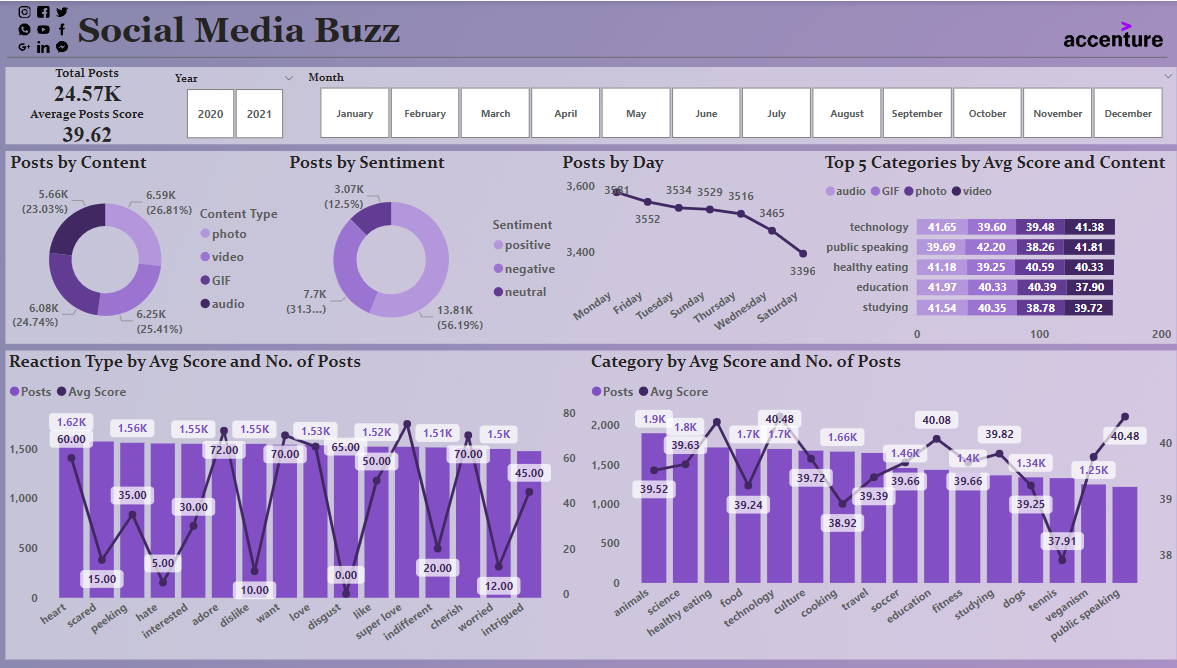

Layout of this report page (visuals, bound fields, positions):
{"tool":"powerbi","page":{"name":"Social","canvas":[1280,720],"ordinal":0},"visuals":[{"type":"textbox","box":[81.1,4.3,1171.4,56.5],"z":0},{"type":"basicShape","box":[0,40.5,1271.3,40.5],"z":1000},{"type":"image","box":[1136.4,0,135.1,71.1],"z":5001},{"type":"image","box":[15.6,0,65.4,61.2],"z":5002},{"type":"shape","box":[8.4,71.1,1263.3,83.7],"z":5003},{"type":"card","title":"Average Posts Score","fields":{"Values":["Avg(social.Score)"]},"box":[15.3,112.9,163.1,41.8],"z":5004},{"type":"slicer","fields":{"Values":["social.Date.Variation.Date Hierarchy.Year"]},"box":[178.5,71.1,153.4,83.7],"z":5005},{"type":"slicer","fields":{"Values":["social.Date.Variation.Date Hierarchy.Month"]},"box":[322.1,69.7,957.9,85.1],"z":5006},{"type":"shape","box":[8.4,161.7,1263.3,207.8],"z":5007},{"type":"donutChart","title":"Posts by Content","fields":{"Category":["social.Content Type"],"Y":["CountNonNull(social.Content ID)"]},"box":[8.4,161.7,316.5,210.5],"z":5008},{"type":"donutChart","title":"Posts by Sentiment","fields":{"Y":["CountNonNull(social.Content ID)"],"Category":["social.Sentiment"]},"box":[309.5,161.7,316.5,210.5],"z":5009},{"type":"shape","box":[8.4,376.5,1263.3,333.2],"z":5011},{"type":"lineClusteredColumnComboChart","title":"Reaction Type by Avg Score and No. of Posts","fields":{"Category":["social.Reaction Type"],"Y":["CountNonNull(social.Content ID)"],"Y2":["Avg(social.Score)"]},"box":[6.9,376.8,621.6,333.4],"z":5012},{"type":"lineChart","title":"Posts by Day","fields":{"Category":["social.Day Name"],"Y":["CountNonNull(social.Content ID)"]},"box":[603.7,161.7,283.1,207.8],"z":5013},{"type":"lineClusteredColumnComboChart","title":"Category by Avg Score and No. of Posts","fields":{"Y2":["Avg(social.Score)"],"Category":["social.Category"],"Y":["CountNonNull(social.Content ID)"]},"box":[633.8,376.8,637.2,333.4],"z":5014},{"type":"barChart","title":"Top 5 Categories by Avg Score and Content","fields":{"Category":["social.Category"],"Y":["Avg(social.Score)"],"Series":["social.Content Type"]},"box":[887.3,161.5,383.7,215.3],"z":5015},{"type":"card","title":"Total Posts","fields":{"Values":["CountNonNull(social.Content ID)"]},"box":[15.3,69.7,163.1,43.2],"z":5016}]}

Visuals, with their boxes in screenshot pixels (x1, y1, x2, y2), scaled from the page's 1280x720 canvas onto the 1177x668 screenshot:
textbox: {"x1": 75, "y1": 4, "x2": 1152, "y2": 56}
basicShape: {"x1": 0, "y1": 38, "x2": 1169, "y2": 75}
image: {"x1": 1045, "y1": 0, "x2": 1169, "y2": 66}
image: {"x1": 14, "y1": 0, "x2": 74, "y2": 57}
shape: {"x1": 8, "y1": 66, "x2": 1169, "y2": 144}
"Average Posts Score" card: {"x1": 14, "y1": 105, "x2": 164, "y2": 144}
slicer - social.Date.Variation.Date Hierarchy.Year: {"x1": 164, "y1": 66, "x2": 305, "y2": 144}
slicer - social.Date.Variation.Date Hierarchy.Month: {"x1": 296, "y1": 65, "x2": 1176, "y2": 144}
shape: {"x1": 8, "y1": 150, "x2": 1169, "y2": 343}
"Posts by Content" donutChart: {"x1": 8, "y1": 150, "x2": 299, "y2": 345}
"Posts by Sentiment" donutChart: {"x1": 285, "y1": 150, "x2": 576, "y2": 345}
shape: {"x1": 8, "y1": 349, "x2": 1169, "y2": 658}
"Reaction Type by Avg Score and No. of Posts" lineClusteredColumnComboChart: {"x1": 6, "y1": 350, "x2": 578, "y2": 659}
"Posts by Day" lineChart: {"x1": 555, "y1": 150, "x2": 815, "y2": 343}
"Category by Avg Score and No. of Posts" lineClusteredColumnComboChart: {"x1": 583, "y1": 350, "x2": 1169, "y2": 659}
"Top 5 Categories by Avg Score and Content" barChart: {"x1": 816, "y1": 150, "x2": 1169, "y2": 350}
"Total Posts" card: {"x1": 14, "y1": 65, "x2": 164, "y2": 105}
